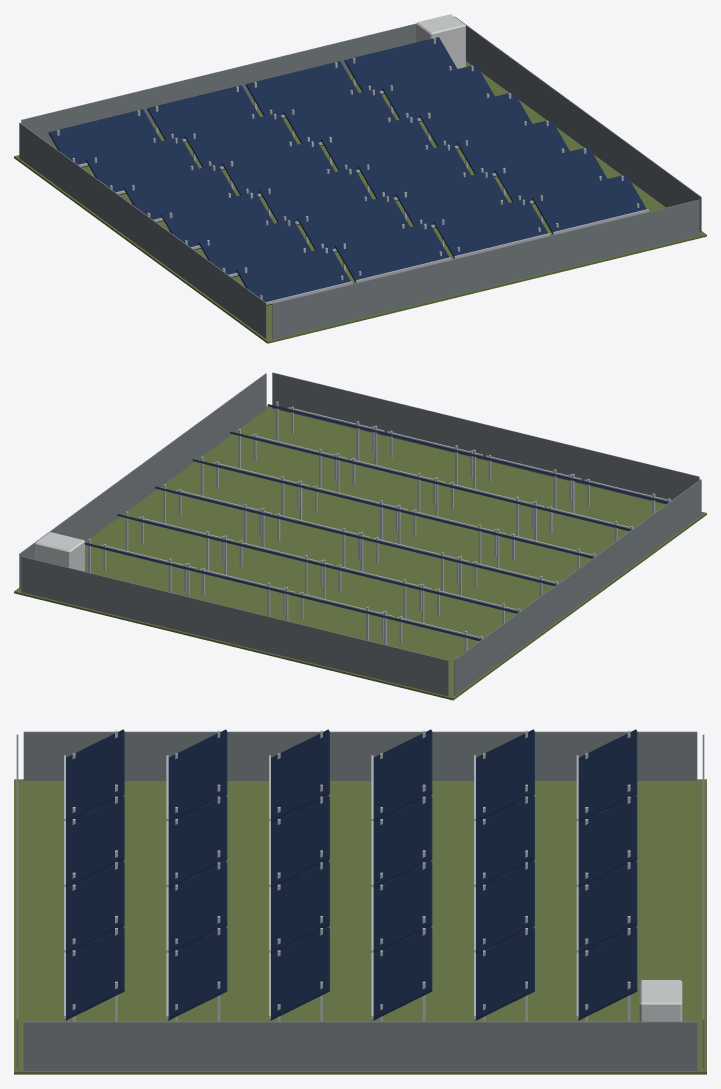
The model's file is solar.glb.
3 renders of one model, top to bottom at view 1: azimuth 30°, elevation 25°; view 2: azimuth 150°, elevation 25°; view 3: azimuth 270°, elevation 25°, orthographic. The views are drawn at different scales.
Parts seen in each view (by area): view 1: solar; view 2: solar; view 3: solar.
Boxes of the visible parts, left/top/right/bottom form: solar: left=14, top=14, right=706, bottom=343; solar: left=14, top=372, right=706, bottom=700; solar: left=14, top=729, right=706, bottom=1074.
Bounding box in the file's own units: 19.6 × 2 × 19.6.
